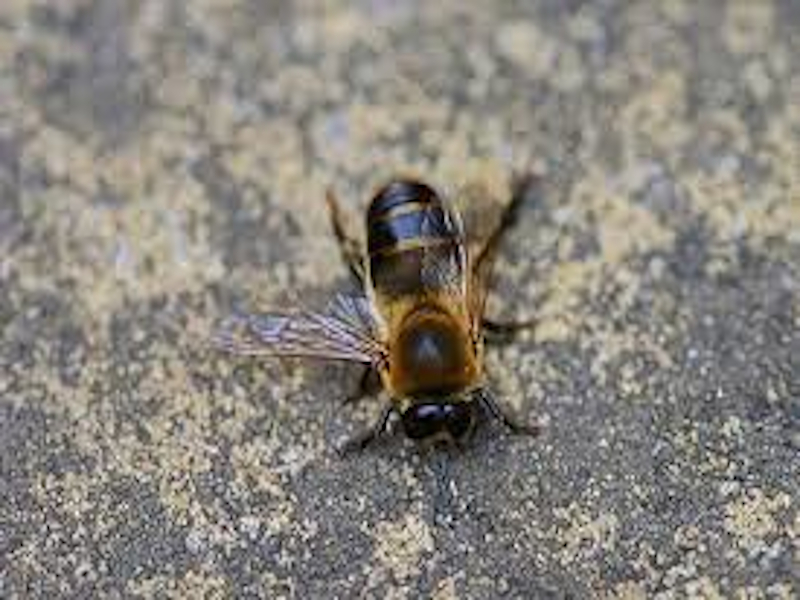abeja: (191, 146, 618, 466)
